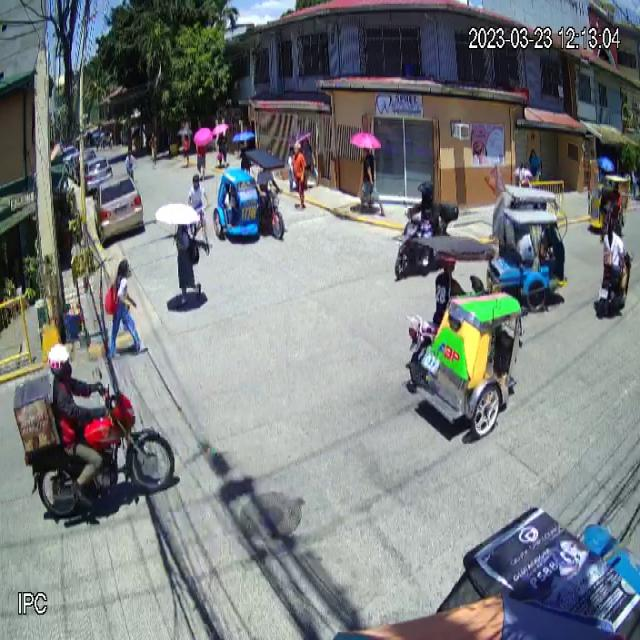Car: (93, 174, 144, 242)
Motorcycle: (15, 366, 176, 520), (392, 196, 460, 280)
Tricycle: (404, 228, 523, 440), (488, 182, 569, 307), (213, 148, 285, 241)
